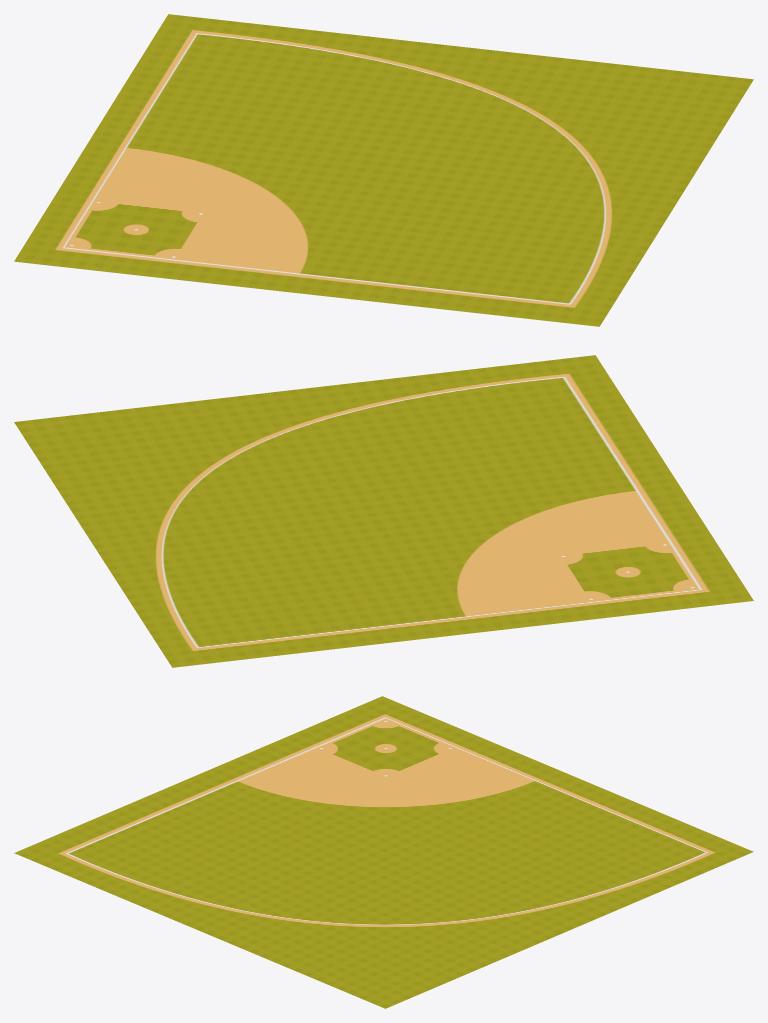
The model's file is baseball-pitch-compressed.glb.
3 views of the same model, one above another, from view 1: azimuth 30°, elevation 25°; view 2: azimuth 150°, elevation 25°; view 3: azimuth 270°, elevation 25° (orthographic). The views are drawn at different scales.
Visible parts, largest first — view 1: baseball-pitch; view 2: baseball-pitch; view 3: baseball-pitch.
Part boxes in pixels (x1,y1,x2,y2): baseball-pitch: (14,14,753,326); baseball-pitch: (14,355,753,667); baseball-pitch: (14,696,753,1008).
Bounding box in the file's own units: 28.11 × 0 × 28.11.
1 material, 1 textured.
